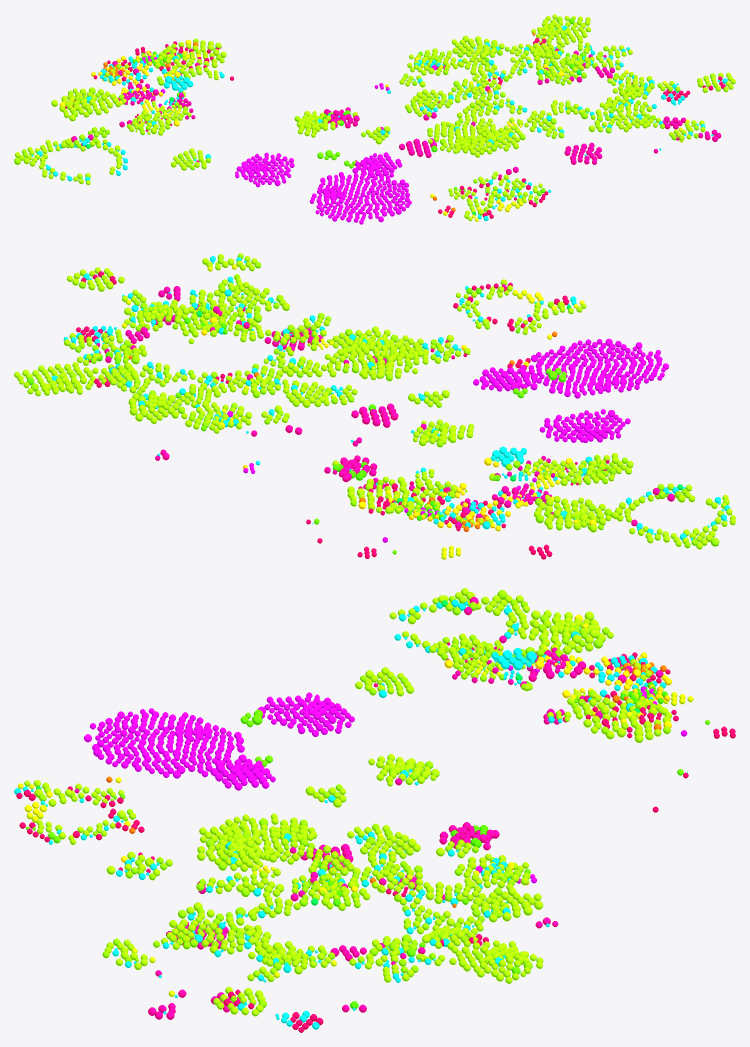
Rendered from task-7ba9377ed-layout.gltf.
The picture shows the model from 3 angles, top to bottom: view 1: azimuth 30°, elevation 25°; view 2: azimuth 150°, elevation 25°; view 3: azimuth 270°, elevation 25°; orthographic projection. The views are drawn at different scales.
Visible parts, largest first — view 1: normal_c_files, normal_pod_files, normal_h_files, normal_pl_files, normal_no_ext_files, normal_pem_files, normal_com_files, normal_sh_files, normal_txt_files, normal_cvsignore_files; view 2: normal_c_files, normal_pod_files, normal_h_files, normal_pl_files, normal_no_ext_files, normal_pem_files, normal_com_files, normal_sh_files, normal_txt_files, normal_cvsignore_files, normal_bat_files; view 3: normal_c_files, normal_pod_files, normal_h_files, normal_no_ext_files, normal_pl_files, normal_pem_files, normal_com_files, normal_txt_files, normal_cvsignore_files, normal_sh_files.
Part boxes in pixels (left/top/right/bottom): normal_c_files: left=15, top=14, right=735, bottom=221; normal_pod_files: left=152, top=65, right=436, bottom=224; normal_h_files: left=14, top=16, right=718, bottom=212; normal_pl_files: left=71, top=50, right=721, bottom=177; normal_no_ext_files: left=37, top=25, right=727, bottom=221; normal_pem_files: left=65, top=38, right=725, bottom=218; normal_com_files: left=59, top=40, right=564, bottom=204; normal_sh_files: left=119, top=54, right=522, bottom=221; normal_txt_files: left=118, top=18, right=586, bottom=203; normal_cvsignore_files: left=31, top=28, right=719, bottom=215; normal_c_files: left=14, top=254, right=735, bottom=549; normal_pod_files: left=227, top=338, right=668, bottom=489; normal_h_files: left=31, top=253, right=719, bottom=548; normal_pl_files: left=89, top=284, right=674, bottom=527; normal_no_ext_files: left=51, top=256, right=729, bottom=540; normal_pem_files: left=76, top=271, right=569, bottom=559; normal_com_files: left=201, top=317, right=596, bottom=531; normal_sh_files: left=318, top=292, right=584, bottom=508; normal_txt_files: left=27, top=287, right=566, bottom=554; normal_cvsignore_files: left=73, top=260, right=727, bottom=540; normal_bat_files: left=307, top=335, right=569, bottom=486; normal_c_files: left=24, top=588, right=671, bottom=1016; normal_pod_files: left=84, top=668, right=539, bottom=872; normal_h_files: left=39, top=590, right=670, bottom=1007; normal_no_ext_files: left=14, top=599, right=687, bottom=1029; normal_pl_files: left=74, top=597, right=663, bottom=1019; normal_pem_files: left=16, top=652, right=735, bottom=1032; normal_com_files: left=120, top=614, right=671, bottom=896; normal_txt_files: left=26, top=666, right=709, bottom=974; normal_cvsignore_files: left=31, top=601, right=646, bottom=1014; normal_sh_files: left=17, top=646, right=632, bottom=874.
Size of the model in its own units: 328 by 47.11 by 238.
